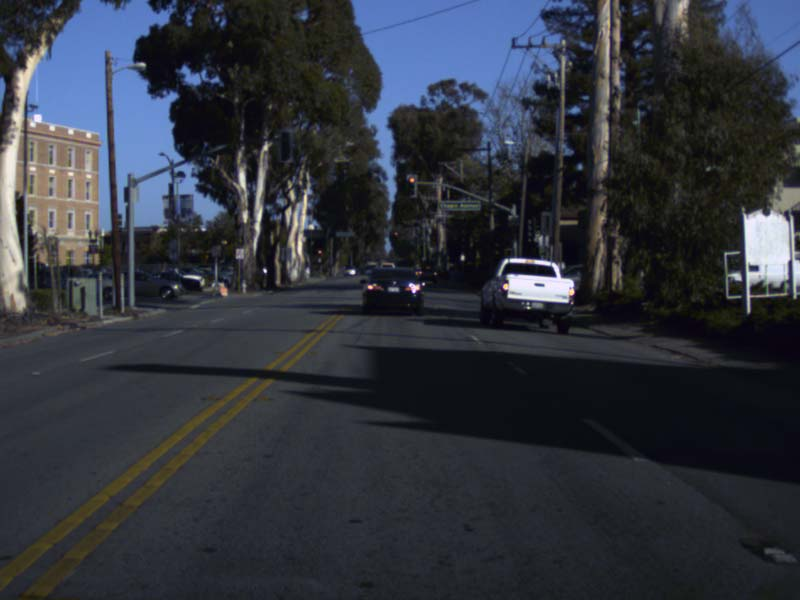Red: (406, 174, 416, 197), (393, 231, 398, 240)
